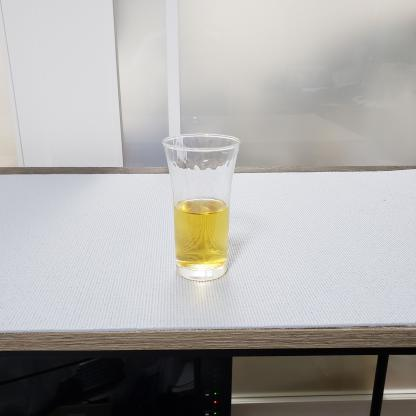glass: (161, 128, 244, 286)
